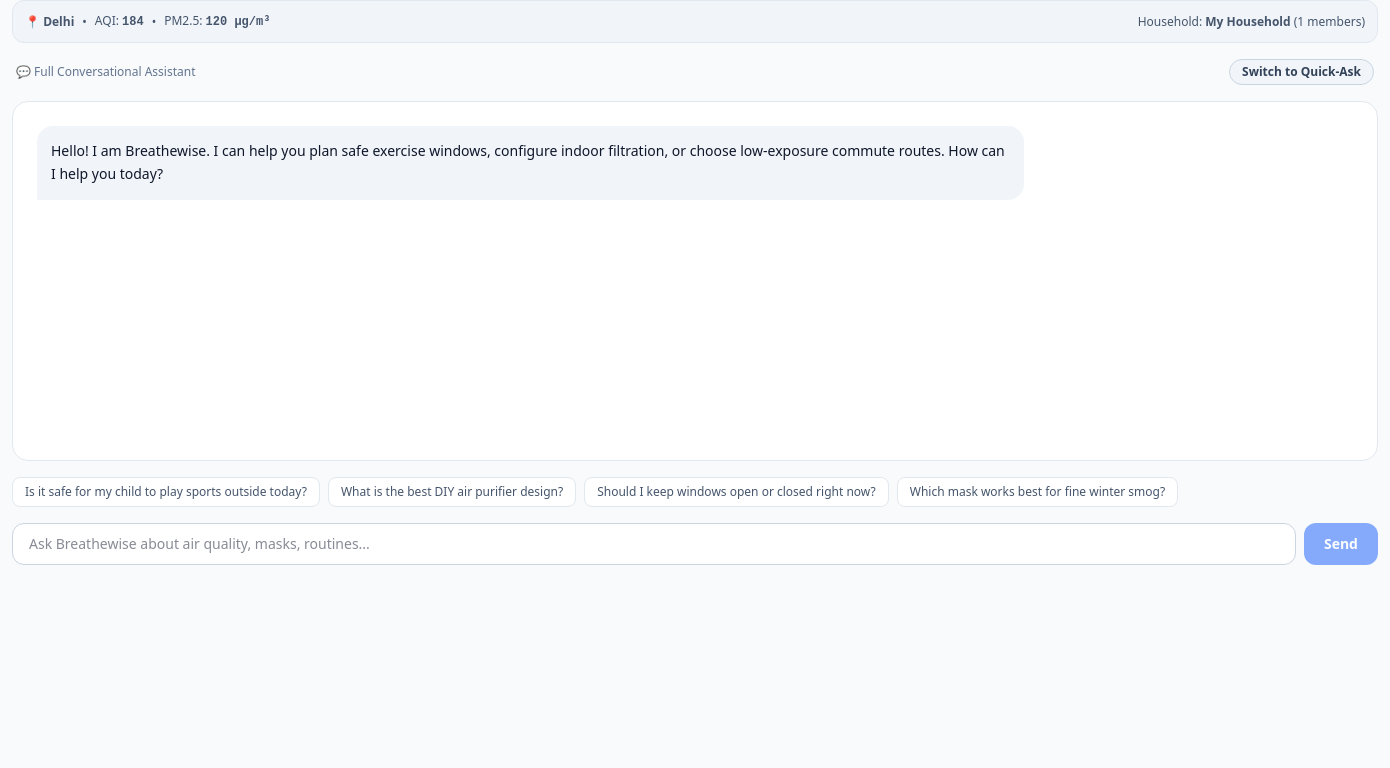
Test case: dom events suite › ChatView switches to Quick-Ask mode when toggle clicked
Click the button "Switch to Quick-Ask": (1302, 72) 1229,59 -> 1374,85
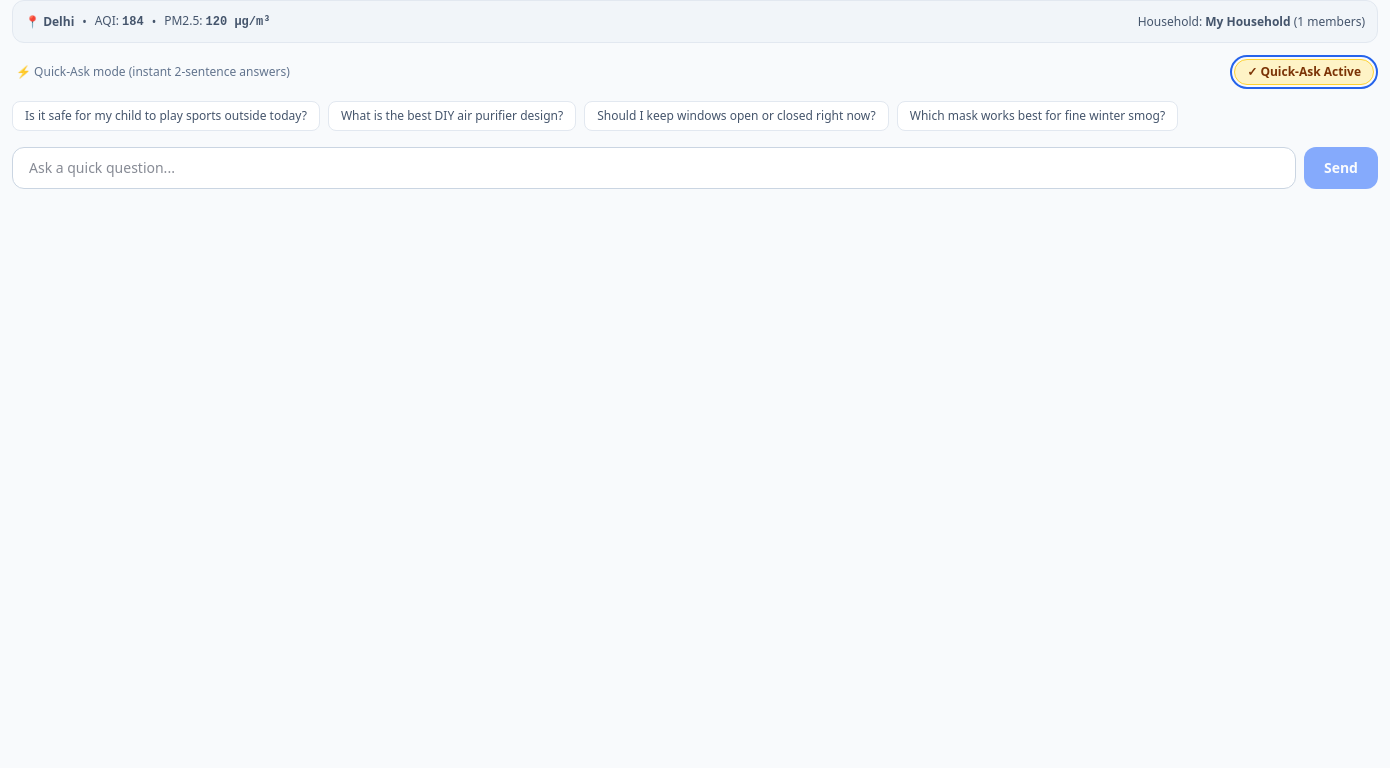
Expected: the text "⚡ Quick-Ask mode (instant 2-sentence answers)" is shown, 16,64 -> 290,80
